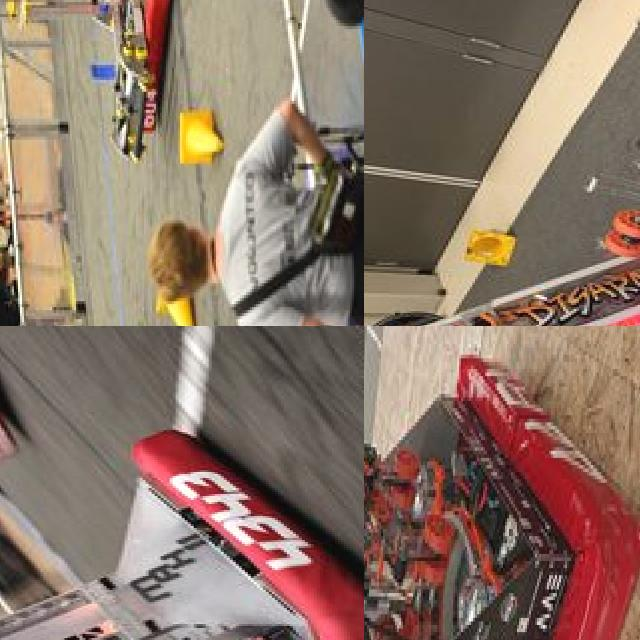FRC-Robots: (364, 326, 640, 640), (0, 407, 364, 640), (364, 116, 640, 326), (0, 0, 169, 170)
